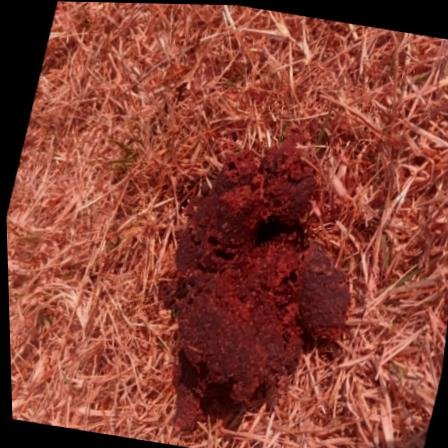dog-poop: (133, 125, 367, 436)
